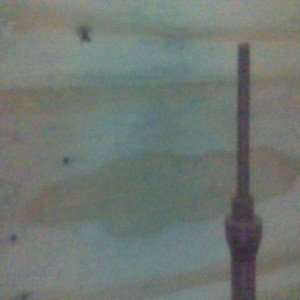obeng: (224, 41, 264, 300)
